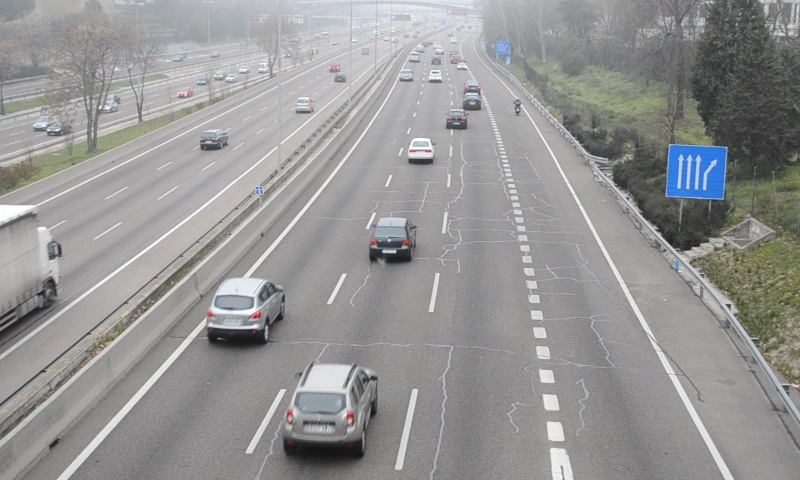car: (283, 362, 377, 446), (208, 277, 285, 334), (369, 216, 415, 259), (407, 136, 435, 161), (445, 108, 467, 128), (463, 93, 482, 110), (464, 80, 482, 94)
motorcycle: (514, 98, 522, 116)
